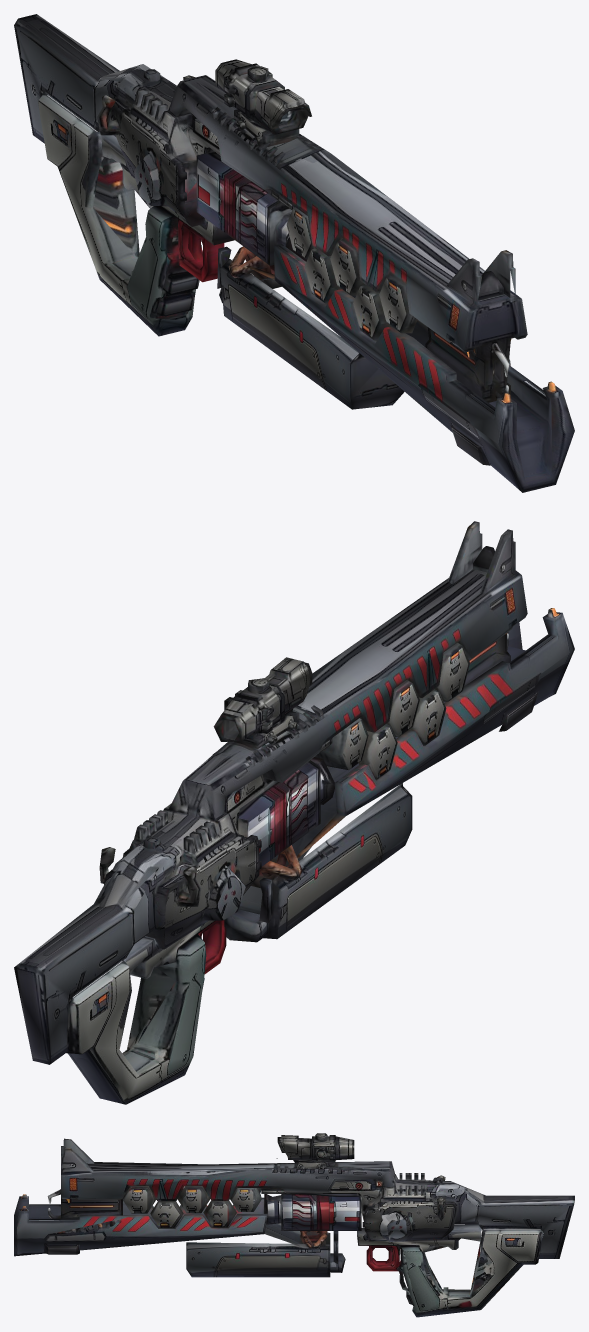
3 views of the same model, one above another, from view 1: azimuth 30°, elevation 25°; view 2: azimuth 150°, elevation 25°; view 3: azimuth 270°, elevation 25° (orthographic). The views are drawn at different scales.
Parts seen in each view (by area): view 1: gun; view 2: gun; view 3: gun.
Boxes of the visible parts, bbox=[...] form: gun: bbox=[14, 14, 574, 492]; gun: bbox=[14, 521, 574, 1104]; gun: bbox=[14, 1133, 574, 1317].
Bounding box in the file's own units: 0.8874 × 2.74 × 7.8.
Materials: 1 (1 with a texture image).
